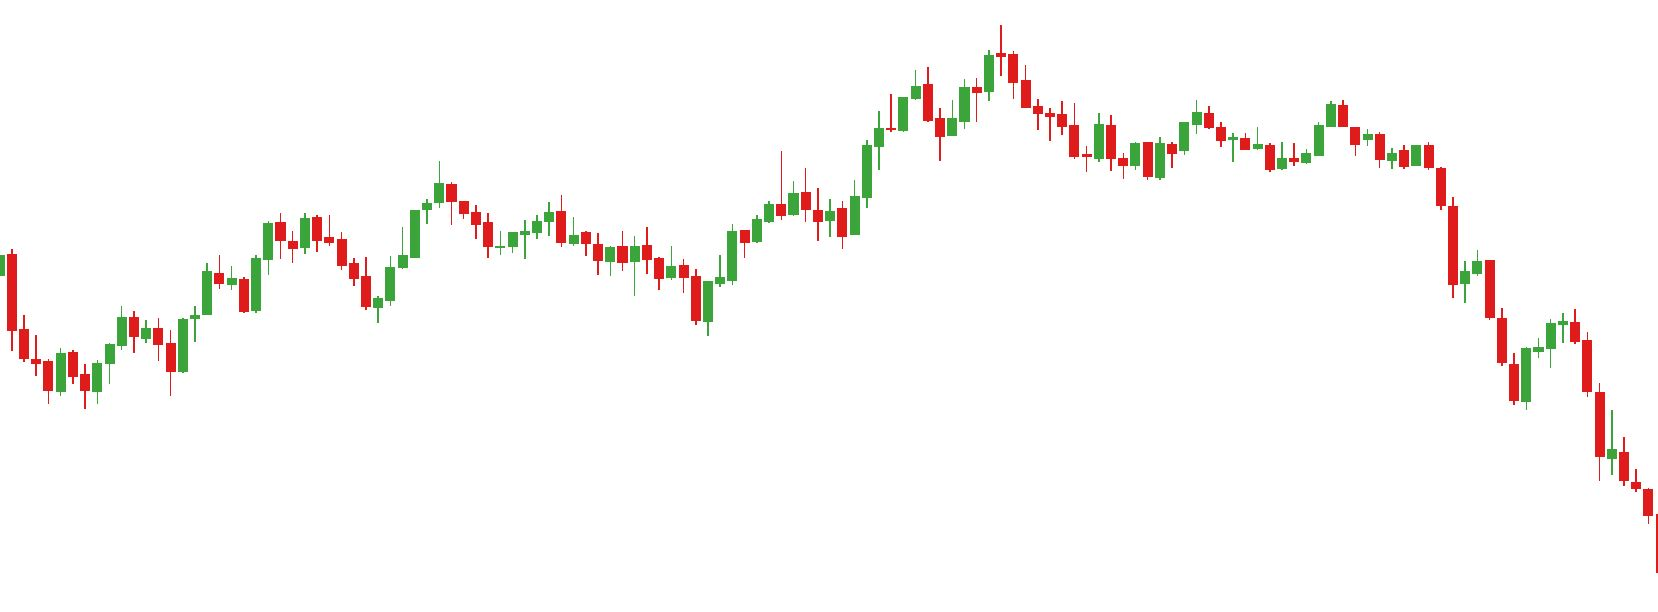buy: (238, 248, 384, 333), (103, 320, 190, 398)
sell: (908, 18, 1020, 123)
